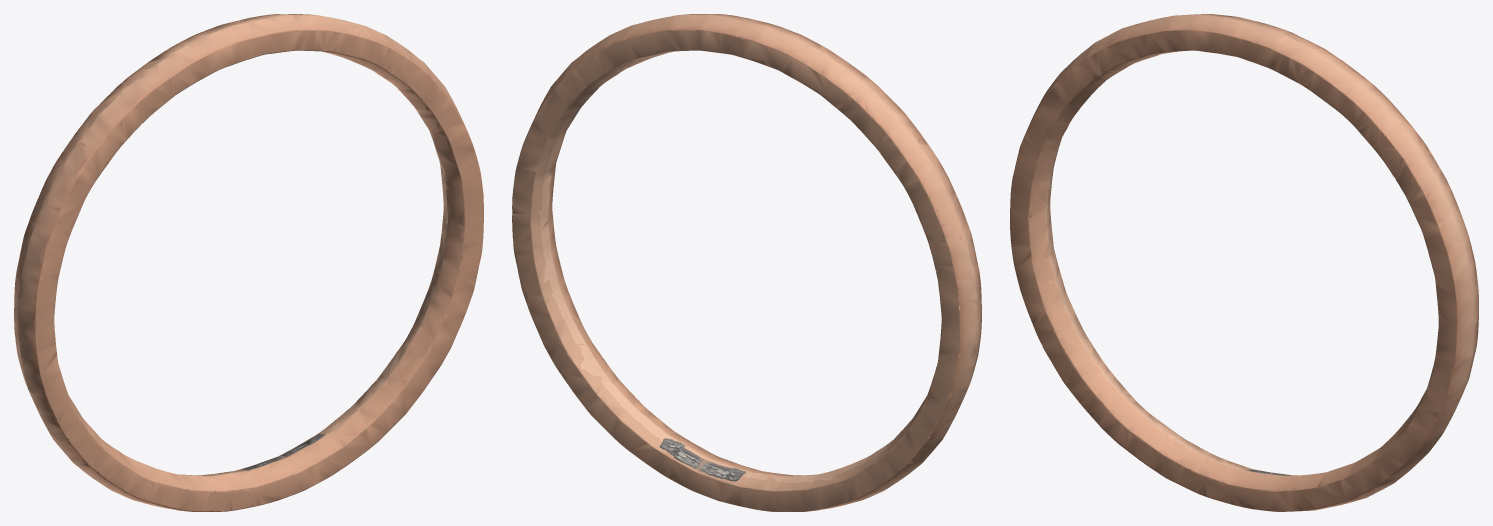
Rendered from ring_rose_gold_game.glb.
The picture shows the model from 3 angles, left to right: view 1: azimuth 30°, elevation 25°; view 2: azimuth 150°, elevation 25°; view 3: azimuth 330°, elevation 25°; orthographic projection.
Parts seen in each view (by area): view 1: Mesh_0; view 2: Mesh_0; view 3: Mesh_0.
Part boxes in pixels (box(x1,y1,x2,y2)): Mesh_0: box(14, 14, 483, 511); Mesh_0: box(512, 14, 981, 511); Mesh_0: box(1010, 14, 1478, 511).
Bounding box in the file's own units: 2.15 × 2.15 × 0.1758.
1 material, 1 textured.
